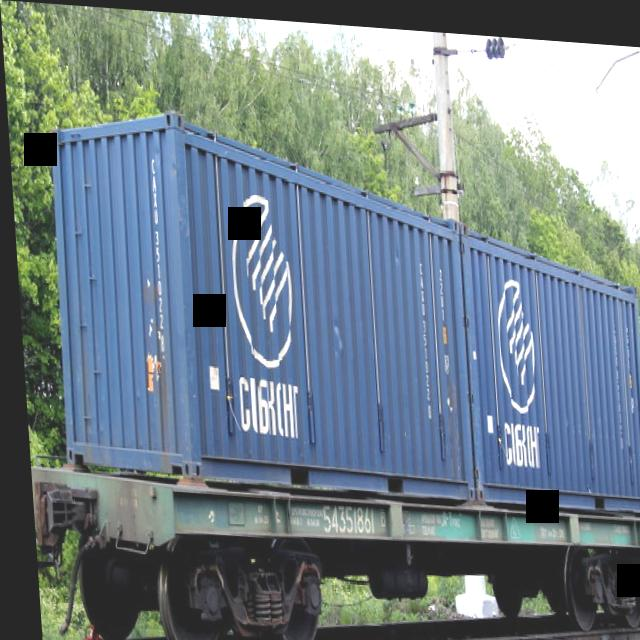container: (40, 89, 473, 509), (457, 206, 640, 515)
flatcar: (24, 457, 640, 640)
